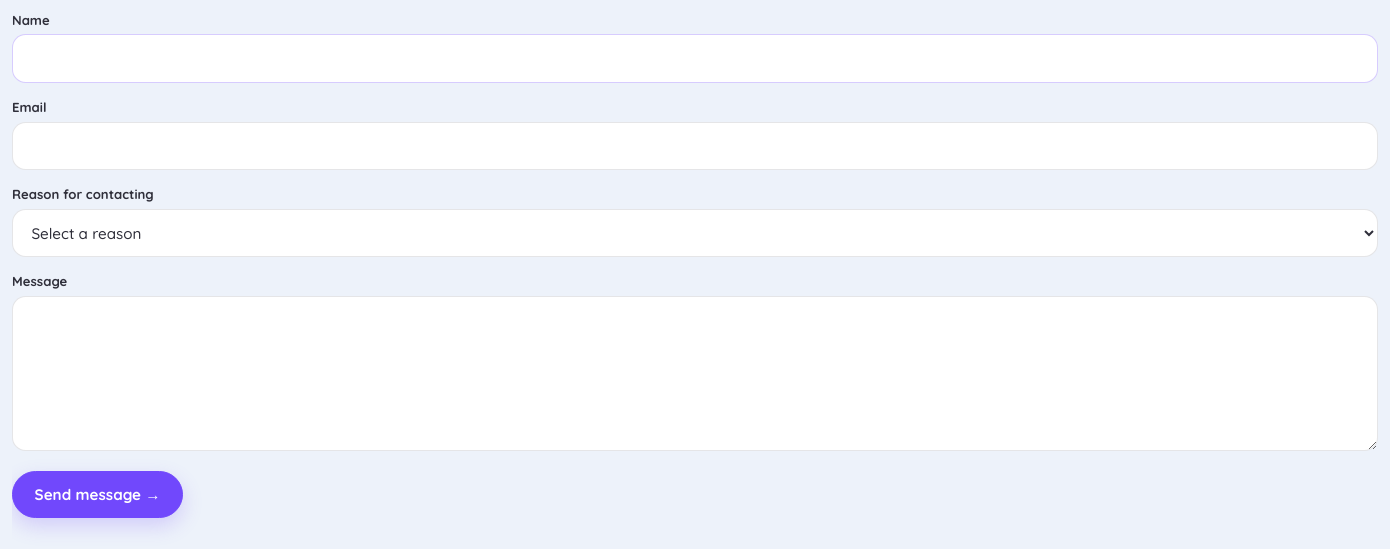
ContactForm › submits a valid payload and shows the success state
In the field labelled "Name": (695, 59) left=12, top=34, right=1378, bottom=83, type "Andrew Baisden"
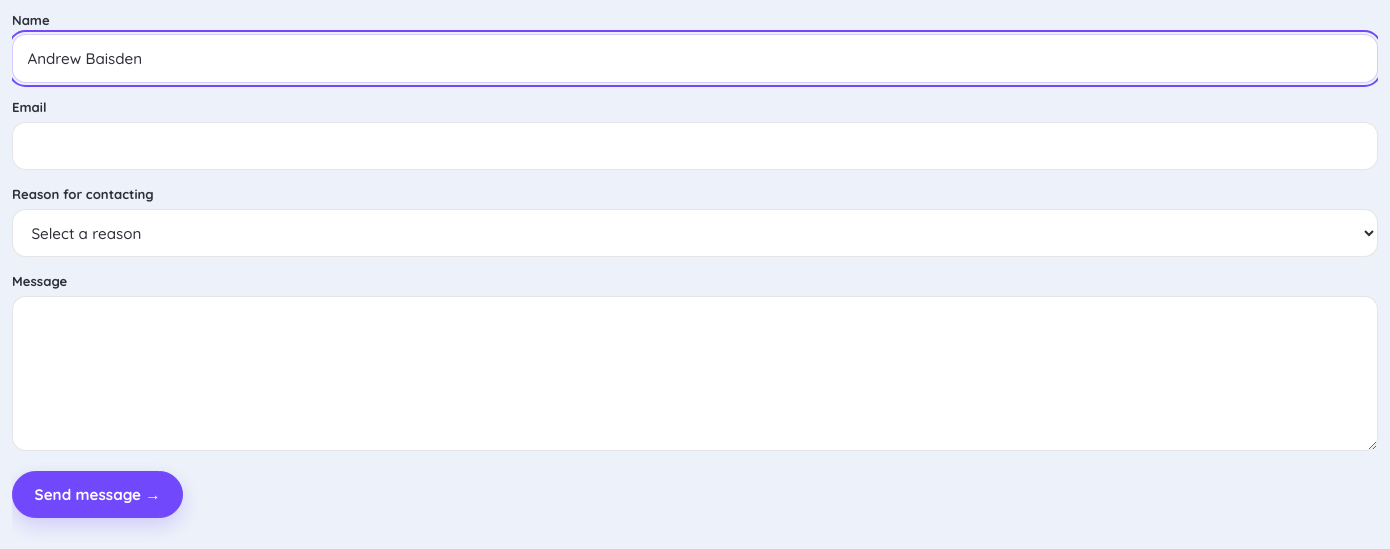
In the field labelled "Email": (695, 146) left=12, top=122, right=1378, bottom=170, type "hello@example.com"
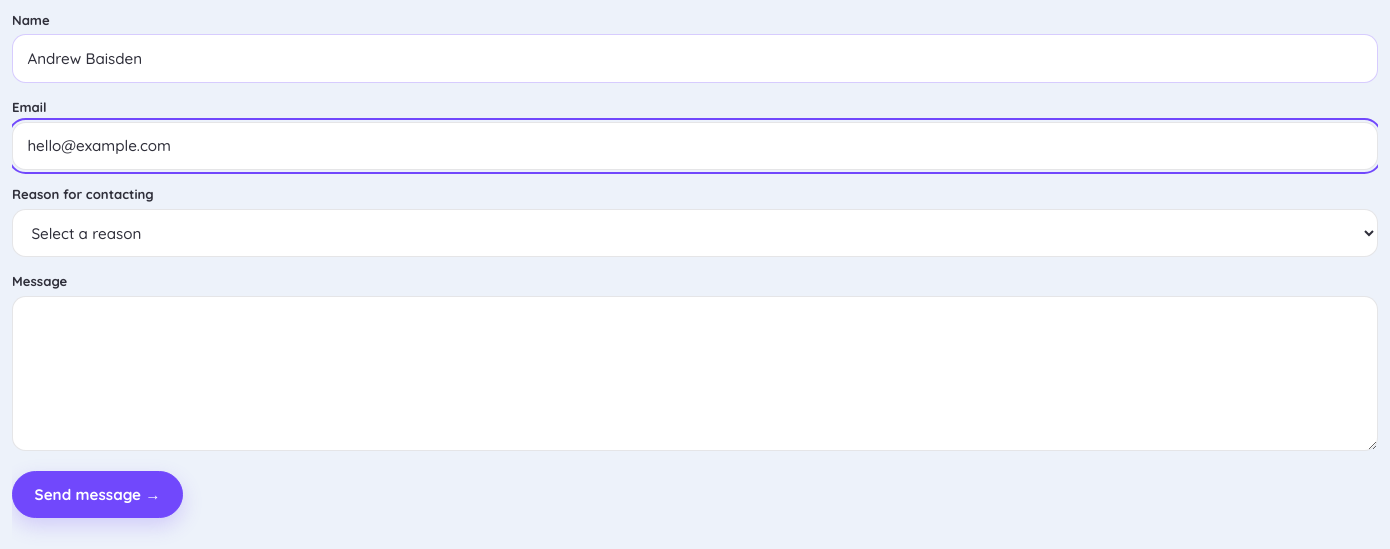
Select "Job opportunity" in the dropdown labelled "Reason for contacting": (695, 233) left=12, top=209, right=1378, bottom=258
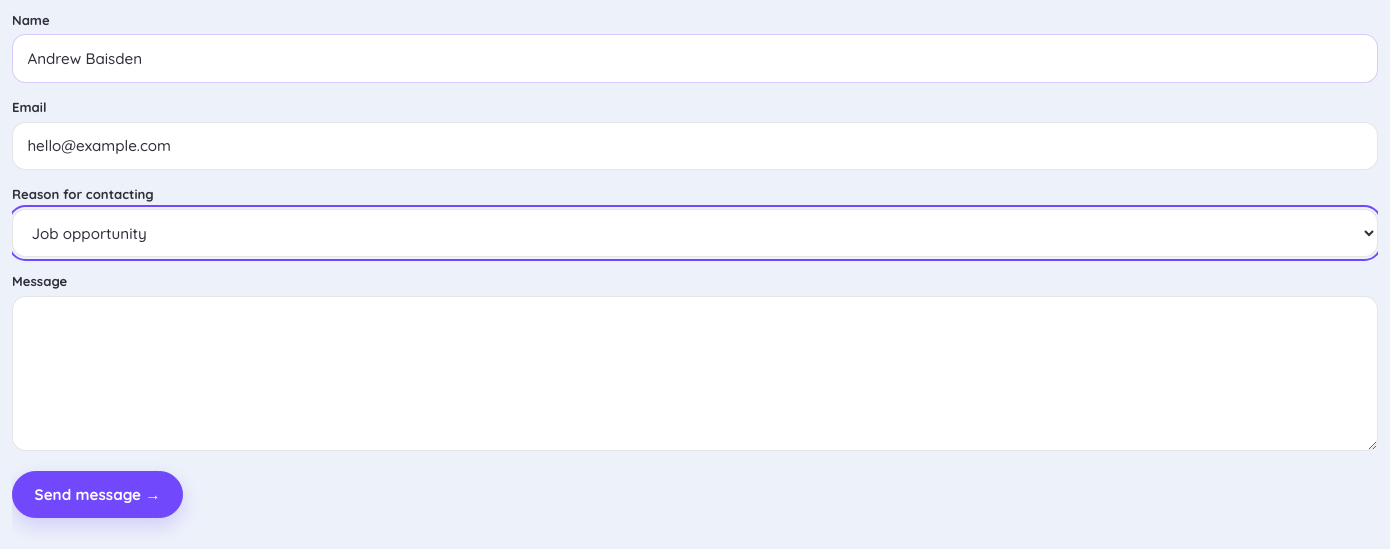
In the text box labelled "Message": (695, 373) left=12, top=296, right=1378, bottom=451, type "I would like to talk about a role on the platform team."
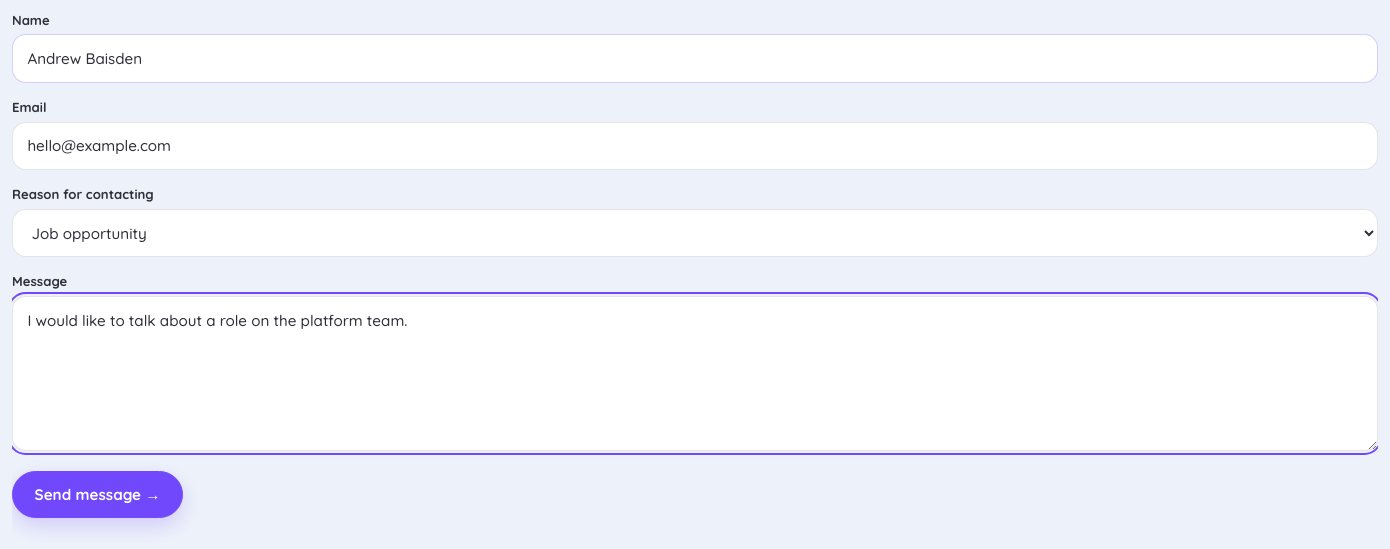
Click the button "Send message →": (98, 494) left=12, top=471, right=183, bottom=518
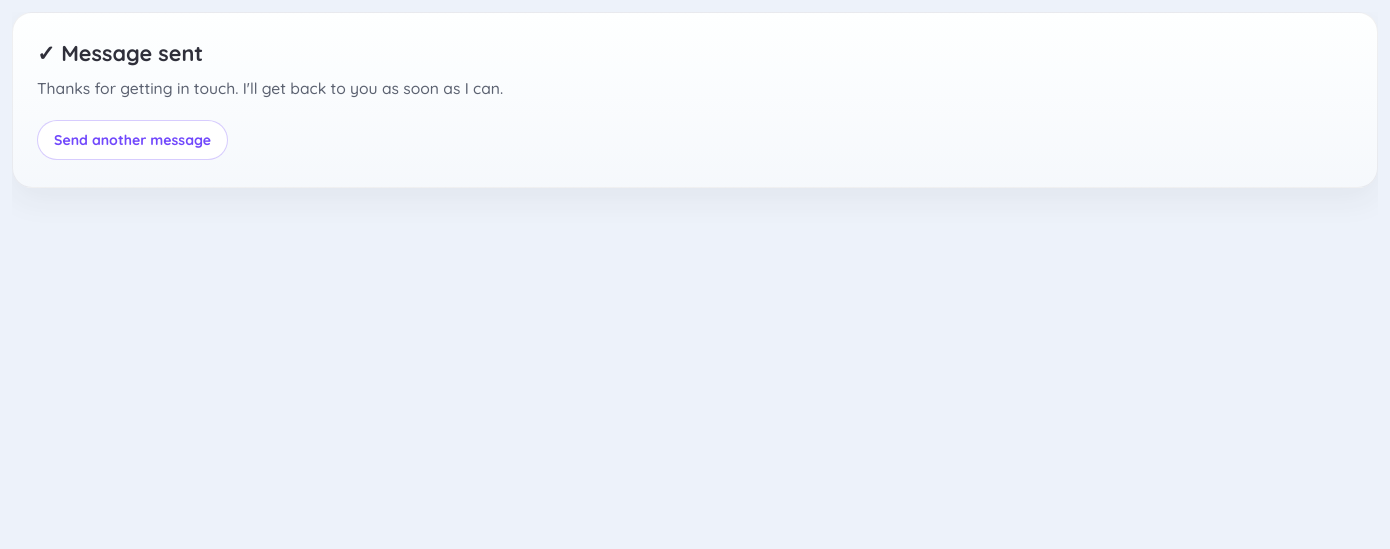
Expected: the message is shown, left=12, top=12, right=1378, bottom=188
Expected: the text "✓ Message sent" is shown, left=37, top=39, right=203, bottom=66
